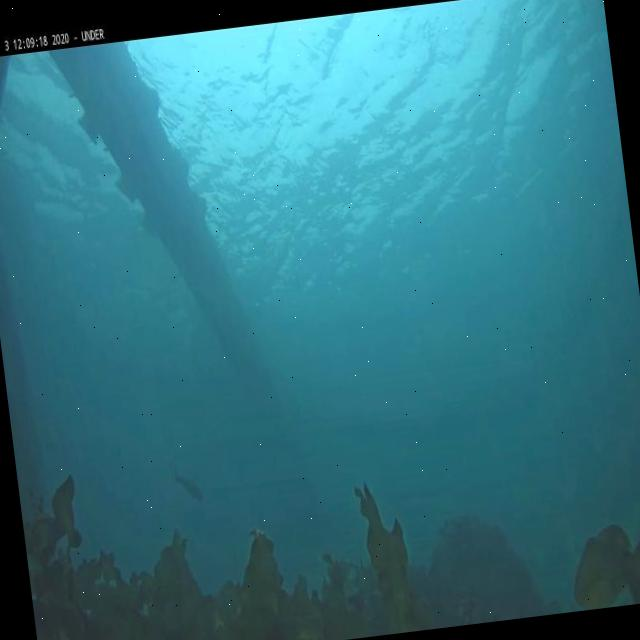fish: (172, 462, 205, 502)
